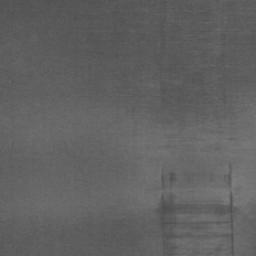Rolled pit: (158, 0, 225, 150), (158, 165, 234, 256)
